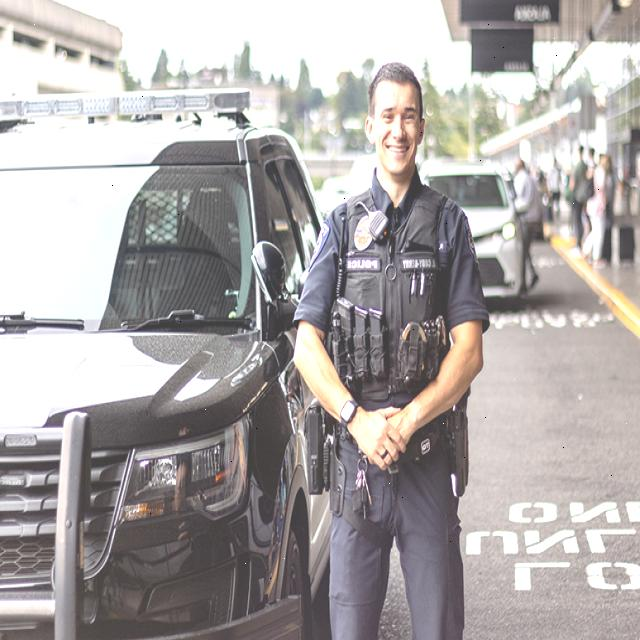police: (296, 51, 483, 640)
